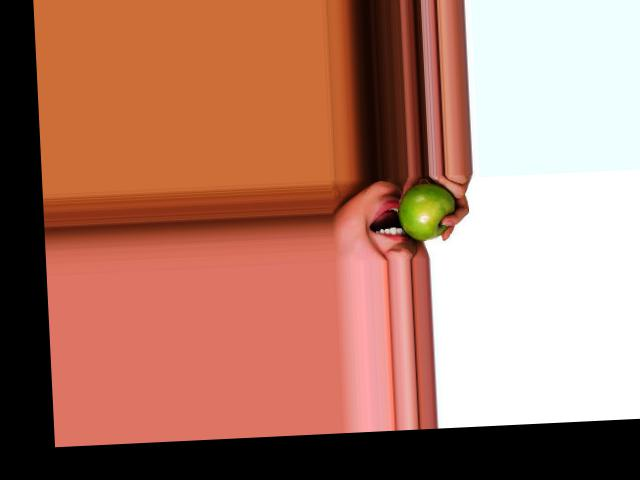apple: (394, 182, 459, 242)
